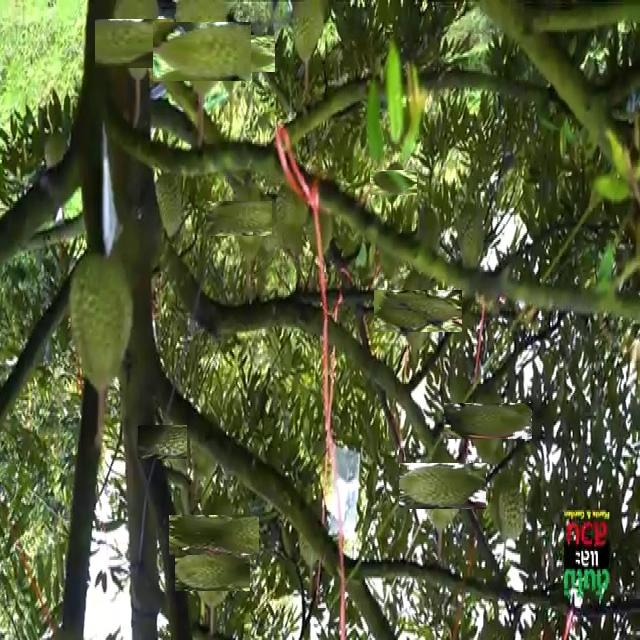durian: (64, 246, 135, 392), (163, 12, 242, 91), (409, 452, 477, 519), (181, 502, 246, 568), (385, 278, 450, 344), (103, 11, 168, 76), (456, 390, 519, 452), (182, 539, 242, 599), (218, 189, 278, 249), (207, 25, 265, 82), (148, 414, 203, 470), (486, 470, 528, 543), (272, 180, 310, 258), (287, 4, 334, 66), (146, 168, 182, 244), (187, 410, 225, 480), (455, 199, 490, 275), (375, 164, 411, 201)
